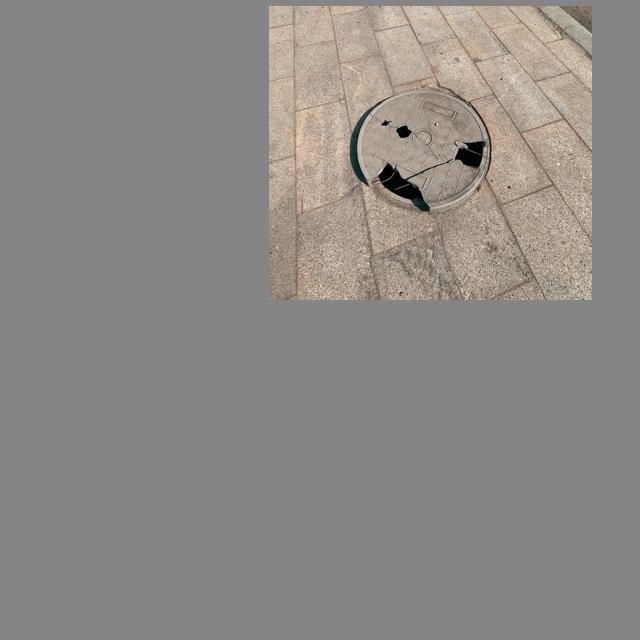broke: (345, 77, 497, 215)
